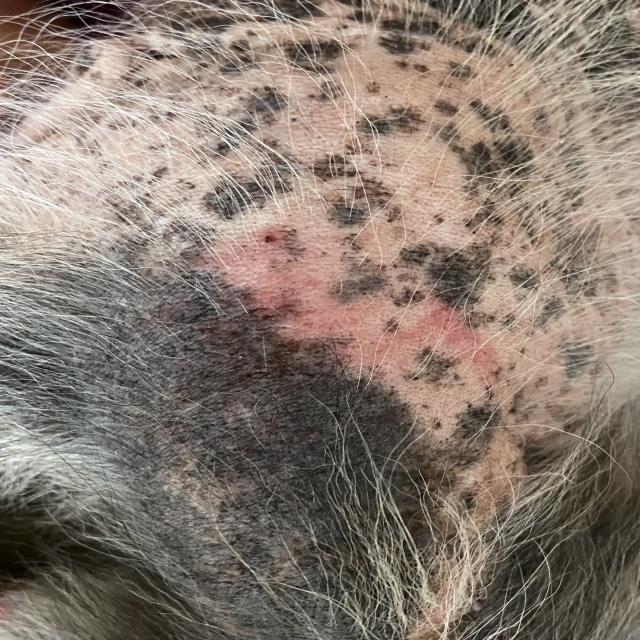demodicosis: (100, 36, 607, 485)
